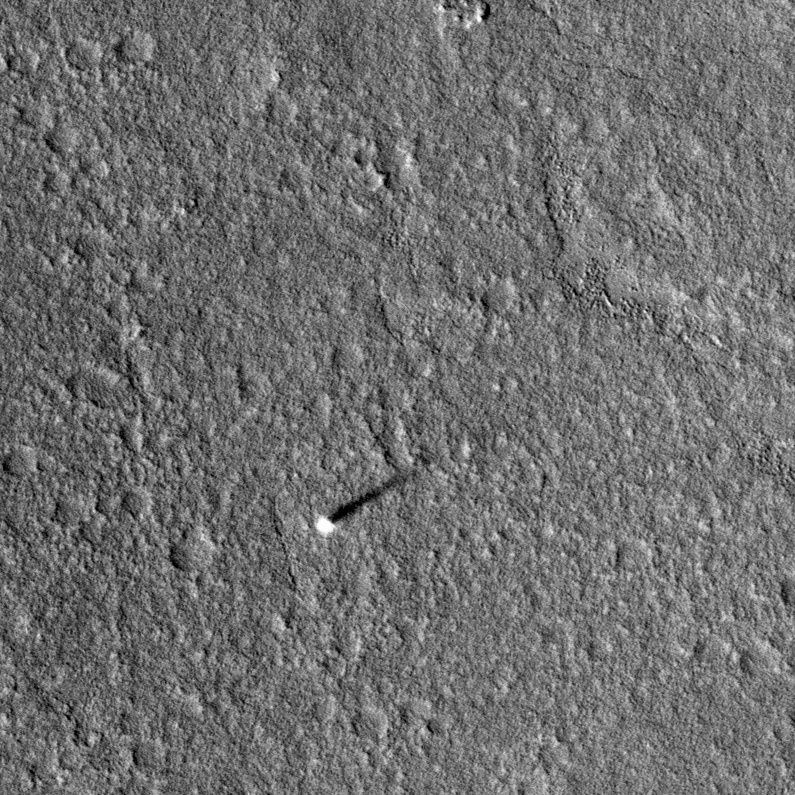dust_devil: (314, 466, 421, 536)
